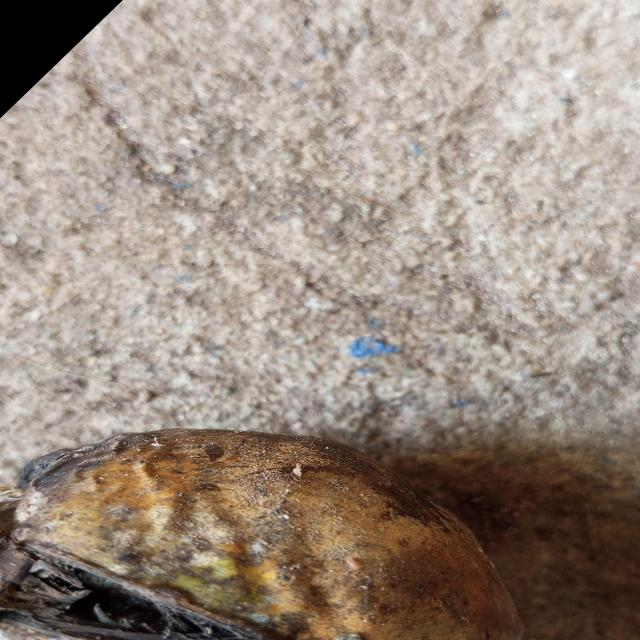damaged: (1, 429, 522, 640)
